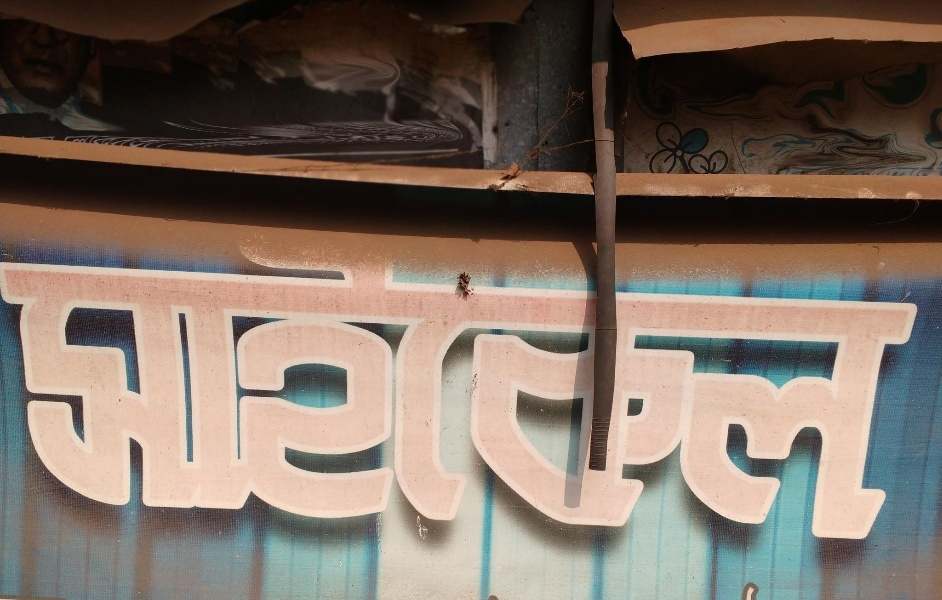text: (17, 204, 32, 551), (33, 204, 48, 551), (49, 204, 64, 551), (65, 204, 80, 551), (81, 204, 96, 551), (97, 204, 112, 551), (113, 204, 128, 551), (129, 204, 144, 551), (145, 204, 160, 551), (161, 204, 176, 551), (177, 204, 192, 551), (193, 204, 208, 551), (209, 204, 224, 551), (225, 204, 240, 551), (241, 204, 256, 551), (257, 204, 272, 551), (273, 204, 288, 551), (289, 204, 304, 551), (305, 204, 320, 551), (321, 204, 336, 551), (337, 204, 352, 551), (353, 204, 368, 551), (369, 204, 384, 551), (385, 204, 400, 551), (401, 204, 416, 551), (417, 204, 432, 551), (433, 204, 448, 551), (449, 204, 464, 551), (465, 204, 480, 551), (481, 204, 496, 551), (497, 204, 512, 551), (513, 204, 528, 551), (529, 204, 544, 551), (545, 204, 560, 551), (561, 204, 576, 551), (577, 204, 592, 551), (593, 204, 608, 551), (609, 204, 624, 551), (625, 204, 640, 551), (641, 204, 656, 551), (657, 204, 672, 551), (673, 204, 688, 551), (689, 204, 704, 551), (705, 204, 720, 551), (721, 204, 736, 551), (737, 204, 752, 551), (753, 204, 768, 551), (769, 204, 784, 551), (785, 204, 800, 551), (801, 204, 816, 551), (817, 204, 832, 551), (833, 204, 848, 551), (849, 204, 864, 551), (865, 204, 880, 551), (881, 204, 896, 551), (897, 204, 912, 551), (3, 204, 16, 551), (913, 204, 925, 551)
